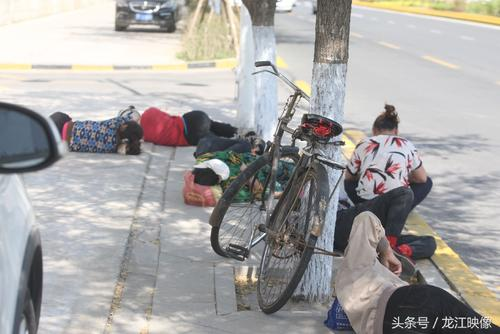fall: (176, 138, 255, 206)
